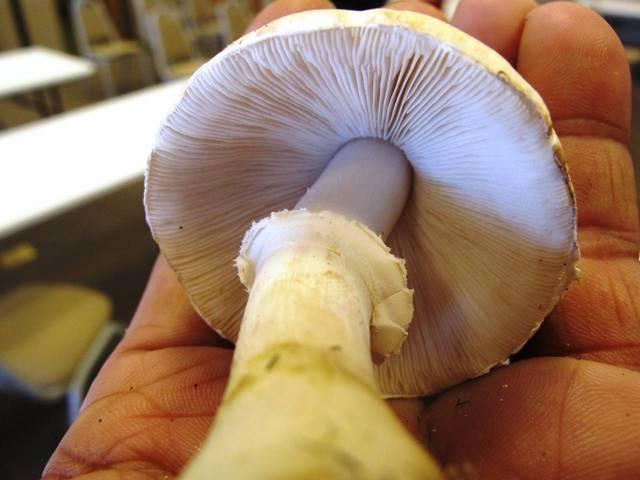poisonous_mushroom: (141, 7, 582, 400)
